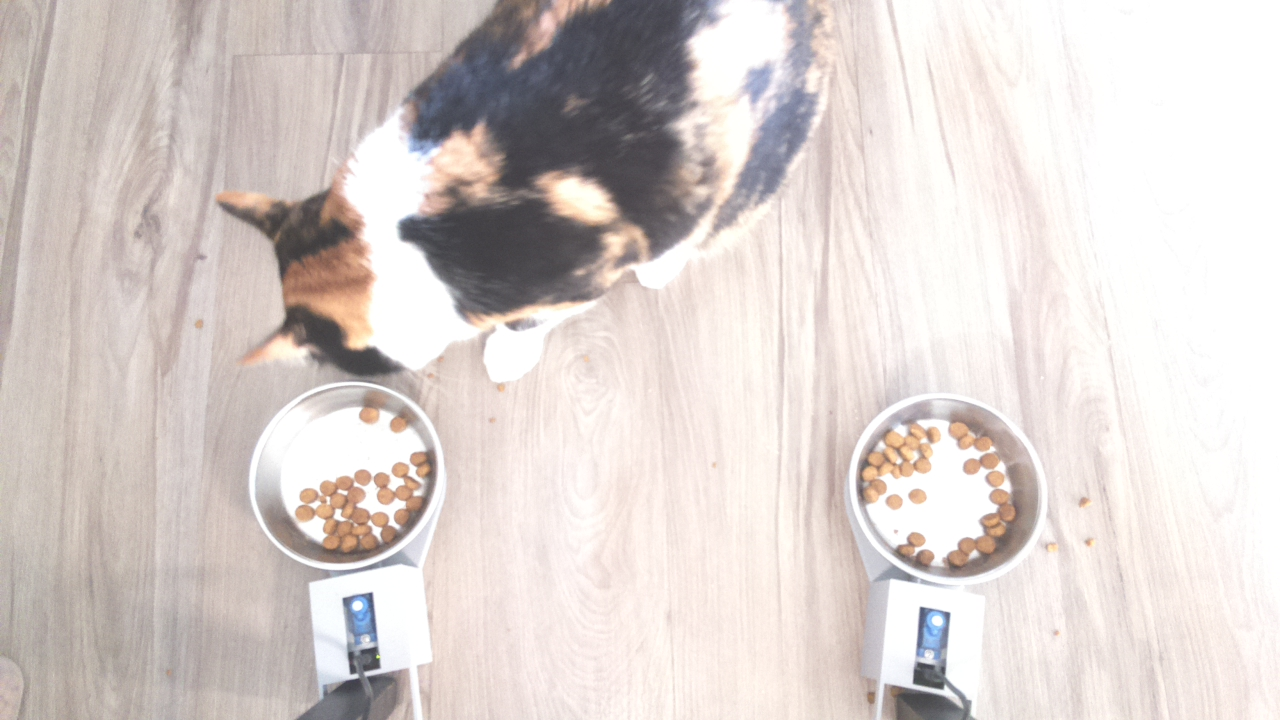bella: (189, 141, 559, 383)
open_bowl: (840, 387, 1051, 586), (239, 378, 450, 573)
